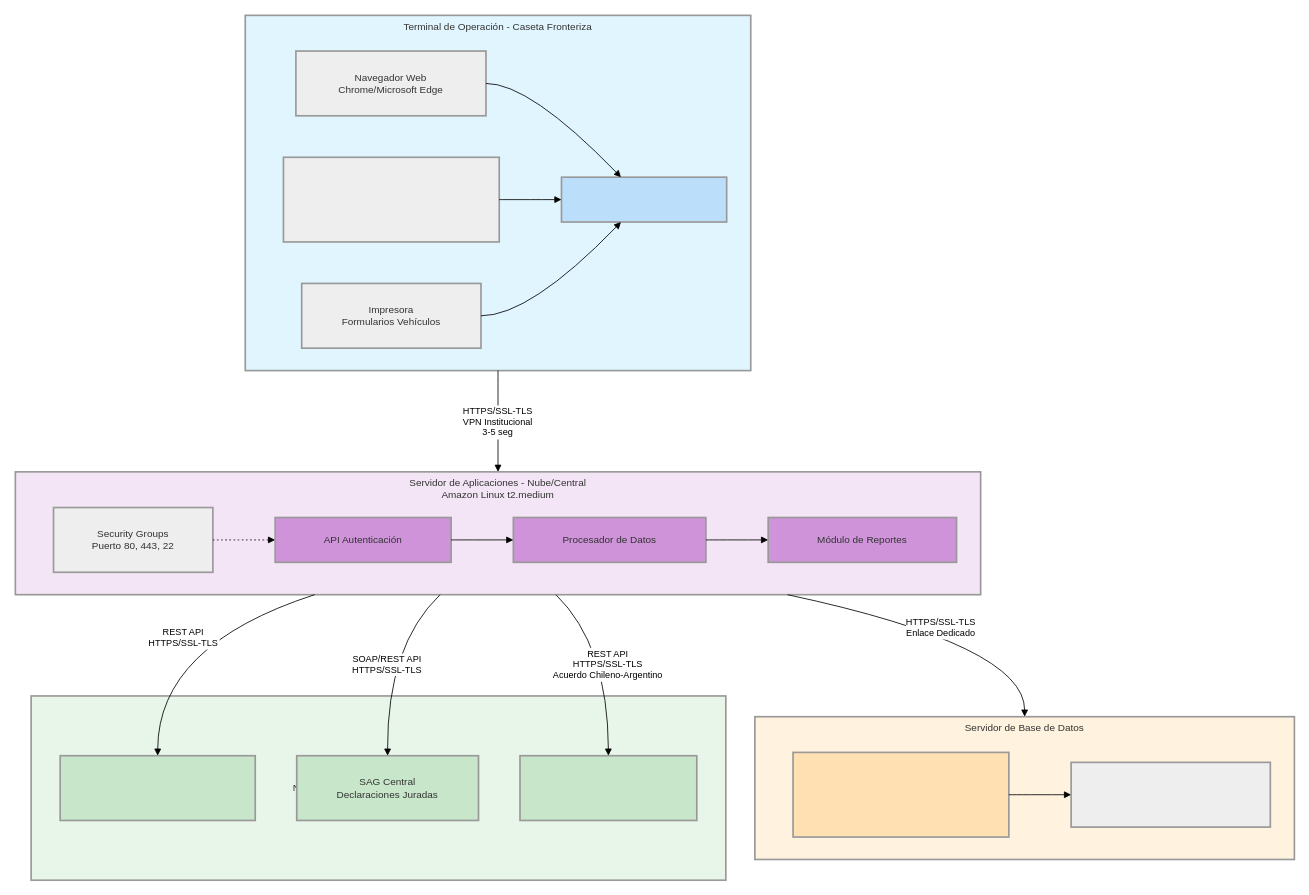
Some shapes in this 1309 by 895 pixel diagram are drawn without their labels. Here are the shapes that lost their labels. From the top down, the centre of each, then its label:
At [391,199]: "Escáner Óptico/Lector QR Cédulas y Pasaportes".
At [643,199]: "SIGA - Interfaz Web".
At [157,787]: "PDI Central Validación Antecedentes".
At [608,787]: "Aduana Argentina Intercambio de Datos".
At [900,794]: "Base de Datos Relacional Tránsitos, Credenciales, Logs".
At [1170,794]: "Registros de Auditoría Institucional".
